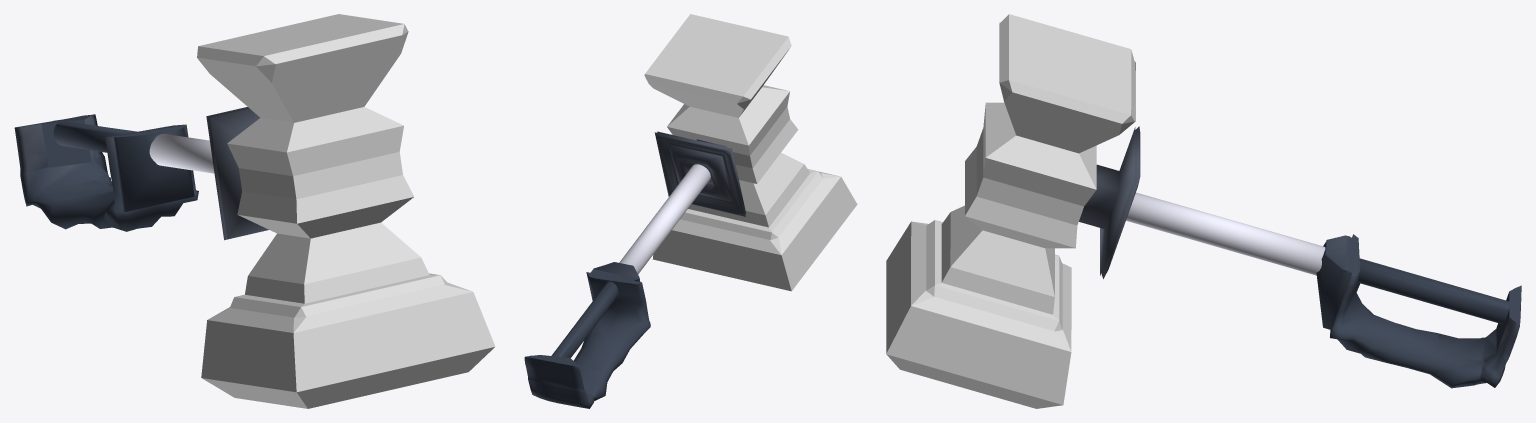
File: pleasework.fbx
3 renders of one model, left to right at view 1: azimuth 30°, elevation 25°; view 2: azimuth 150°, elevation 25°; view 3: azimuth 270°, elevation 25°, orthographic. The views are drawn at different scales.
Visible parts, largest first — view 1: Cube.002; view 2: Cube.002; view 3: Cube.002.
Boxes of the visible parts, box(x1,y1,x2,y2) form: Cube.002: box(14, 14, 495, 408); Cube.002: box(524, 14, 857, 408); Cube.002: box(886, 14, 1521, 408).
Bounding box in the file's own units: 371 × 636 × 1096.
